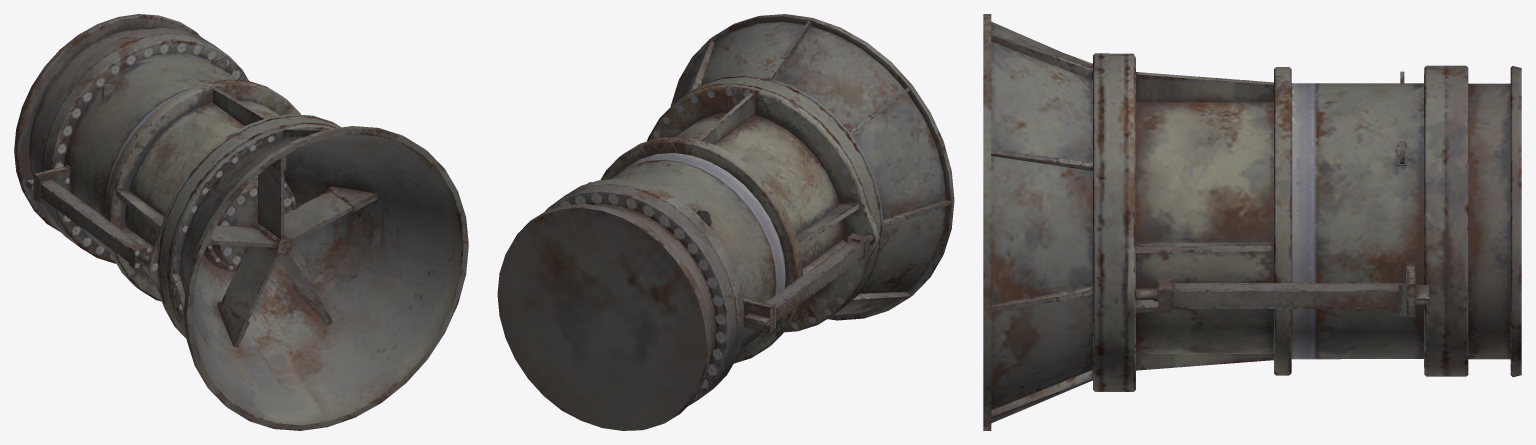
File: sm22_051_drainagegate01a.fbx
3 renders of one model, left to right at view 1: azimuth 30°, elevation 25°; view 2: azimuth 150°, elevation 25°; view 3: azimuth 270°, elevation 25°, orthographic. The views are drawn at different scales.
Parts seen in each view (by area): view 1: LOD_1_Group_0_Sub_1__sm22_051_DrainageGate01A_A_Mat; view 2: LOD_1_Group_0_Sub_1__sm22_051_DrainageGate01A_A_Mat; view 3: LOD_1_Group_0_Sub_1__sm22_051_DrainageGate01A_A_Mat.
Boxes of the visible parts, x1=… form: LOD_1_Group_0_Sub_1__sm22_051_DrainageGate01A_A_Mat: x1=14, y1=14, x2=468, y2=430; LOD_1_Group_0_Sub_1__sm22_051_DrainageGate01A_A_Mat: x1=497, y1=14, x2=954, y2=430; LOD_1_Group_0_Sub_1__sm22_051_DrainageGate01A_A_Mat: x1=983, y1=14, x2=1521, y2=430.
Bounding box in the file's own units: 1.93 × 1.93 × 2.48.
